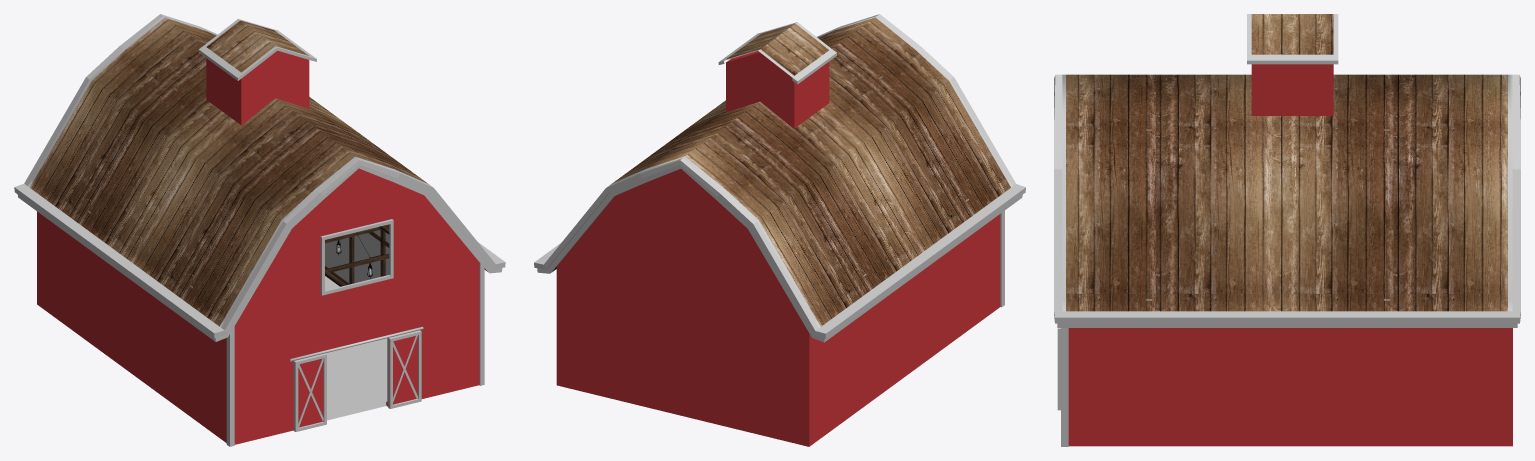
File: barn.fbx
The picture shows the model from 3 angles, left to right: view 1: azimuth 30°, elevation 25°; view 2: azimuth 150°, elevation 25°; view 3: azimuth 270°, elevation 25°; orthographic projection. The views are drawn at different scales.
Parts seen in each view (by area): view 1: Barn; view 2: Barn; view 3: Barn.
Boxes of the visible parts, bbox=[...] form: Barn: bbox=[14, 14, 505, 446]; Barn: bbox=[534, 14, 1025, 446]; Barn: bbox=[1054, 14, 1520, 446].
Bounding box in the file's own units: 1311 × 1331 × 1562.
